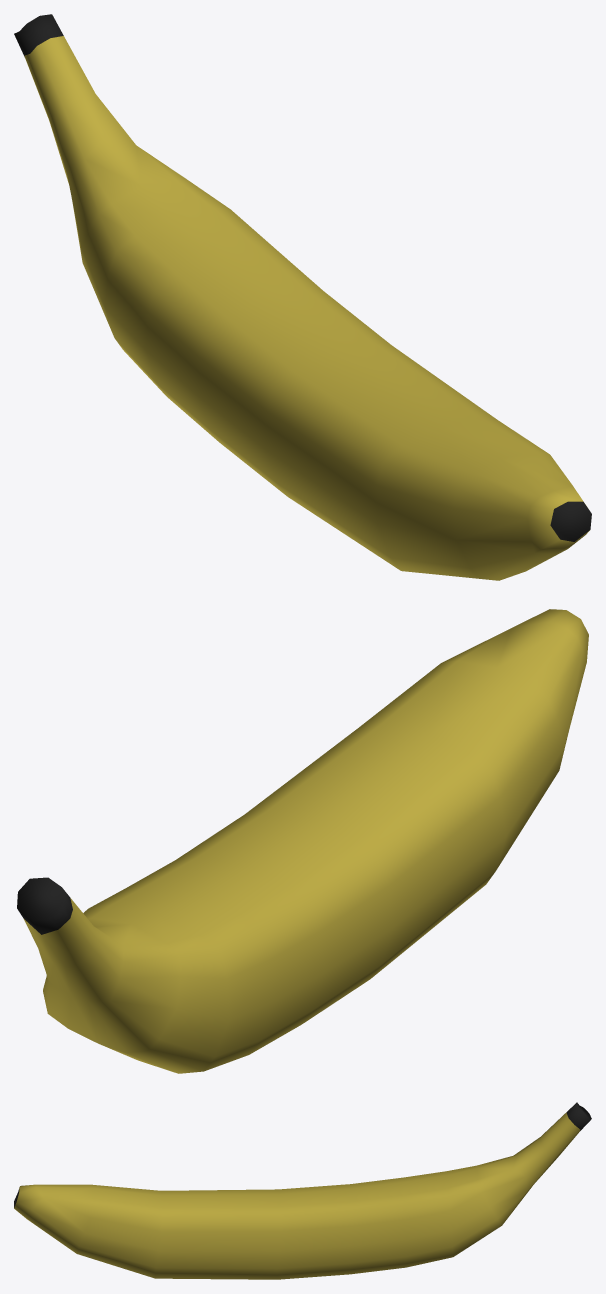
File: Banana.gltf
3 views of the same model, one above another, from view 1: azimuth 30°, elevation 25°; view 2: azimuth 150°, elevation 25°; view 3: azimuth 270°, elevation 25° (orthographic). The views are drawn at different scales.
Visible parts, largest first — view 1: Banana; view 2: Banana; view 3: Banana.
Part boxes in pixels (x1=…): Banana: x1=14, y1=14, x2=591, y2=580; Banana: x1=17, y1=609, x2=588, y2=1073; Banana: x1=14, y1=1102, x2=591, y2=1279.
Size of the model in its own units: 1.24 by 2.16 by 6.97.
